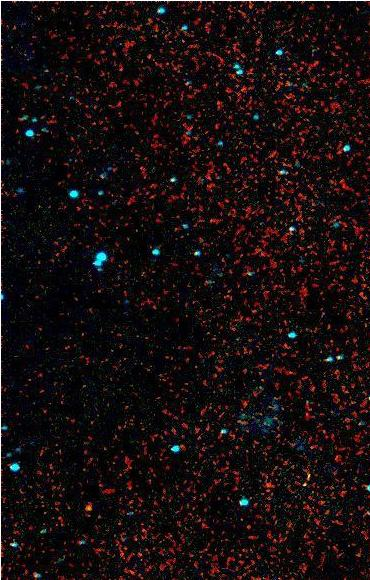star: (73, 493, 103, 523)
